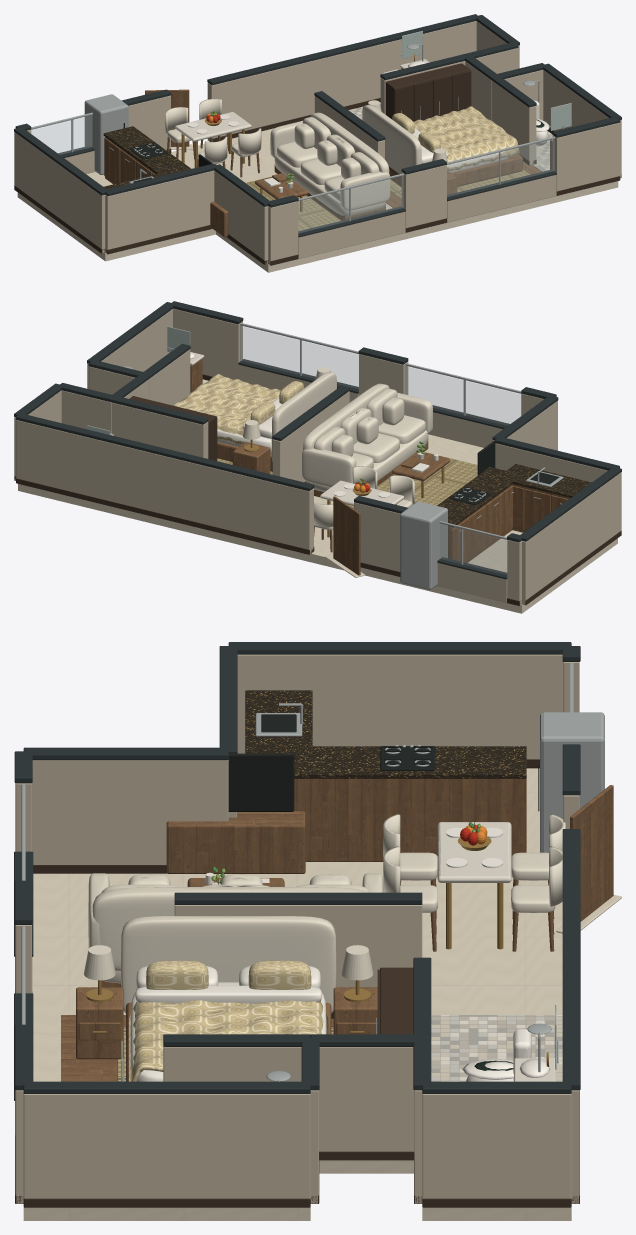
The model's file is aristo-04.glb.
The picture shows the model from 3 angles, top to bottom: view 1: azimuth 30°, elevation 25°; view 2: azimuth 150°, elevation 25°; view 3: azimuth 270°, elevation 25°; orthographic projection. The views are drawn at different scales.
Parts seen in each view (by area): view 1: Ivory masonry, Apartment foundation, Ivory masonry.004, Ivory masonry.003, Ivory masonry.008, Soft jacquard duvet with folds.003, Cutaway window glazing, Cutaway window glazing.001, Ivory masonry.005, Window sill, Window sill.001, Ivory masonry.007 (+62 smaller); view 2: Ivory masonry, Apartment foundation, Ivory masonry.003, Cutaway window glazing, Cutaway window glazing.001, Brushed refrigerator, Soft jacquard duvet with folds.003, Ivory masonry.016, Ivory masonry.008, Ivory masonry.001, Charcoal wall cut, Cutaway window glazing.002 (+58 smaller); view 3: Apartment foundation, Ivory masonry.009, Ivory masonry.003, Ivory masonry.005, Ivory masonry.013, Kitchen cabinetry, Padded headboard.003, Ivory masonry.011, Walnut television console, Soft jacquard duvet with folds.003, Ivory masonry.017, Amber granite worktop (+52 smaller).
Part boxes in pixels (x1,y1,x2,y2): Ivory masonry: (207,21,476,141); Apartment foundation: (17,128,618,272); Ivory masonry.004: (105,170,214,253); Ivory masonry.003: (14,132,105,253); Ivory masonry.008: (552,122,619,191); Soft jacquard duvet with folds.003: (413,106,519,170); Cutaway window glazing: (447,139,553,196); Cutaway window glazing.001: (298,176,402,232); Ivory masonry.005: (214,170,268,264); Window sill: (447,174,556,222); Window sill.001: (298,211,405,258); Ivory masonry.007: (401,165,446,227); Ivory masonry: (16,420,313,553); Apartment foundation: (18,379,617,613); Ivory masonry.003: (522,472,621,604); Cutaway window glazing: (242,326,358,389); Cutaway window glazing.001: (407,366,520,425); Brushed refrigerator: (400,501,447,589); Soft jacquard duvet with folds.003: (173,374,280,445); Ivory masonry.016: (112,402,208,458); Ivory masonry.008: (173,308,242,379); Ivory masonry.001: (354,502,400,571); Charcoal wall cut: (16,413,314,491); Cutaway window glazing.002: (440,524,506,574); Apartment foundation: (23,768,571,1220); Ivory masonry.009: (23,1094,310,1198); Ivory masonry.003: (237,654,563,759); Ivory masonry.005: (32,760,228,864); Ivory masonry.013: (422,1093,571,1198); Kitchen cabinetry: (294,778,526,861); Padded headboard.003: (121,916,336,1013); Ivory masonry.011: (319,1047,414,1151); Walnut television console: (166,811,305,873); Soft jacquard duvet with folds.003: (129,1000,328,1081); Ivory masonry.017: (174,905,422,987); Amber granite worktop: (280,746,526,778).
Size of the model in its own units: 9.28 by 1.37 by 5.33.
24 materials, 6 textured.
